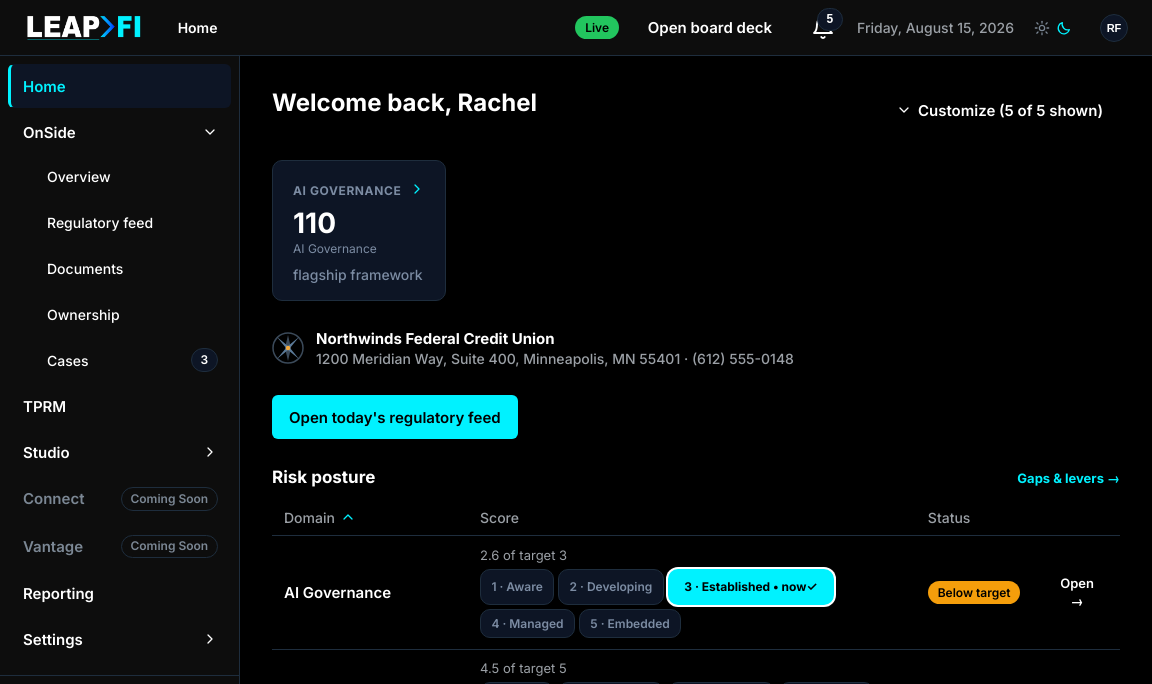
Test: ProfileMenu disclosure (C4 a11y baseline, design_system_spec.md §2.2; SH-7) › Tab out closes the menu instead of leaving a stale-open popover (WAI-ARIA menu pattern)
Click the button with aria-label "Rachel Fischer" at [1114, 28], box [1092,6,1136,50]
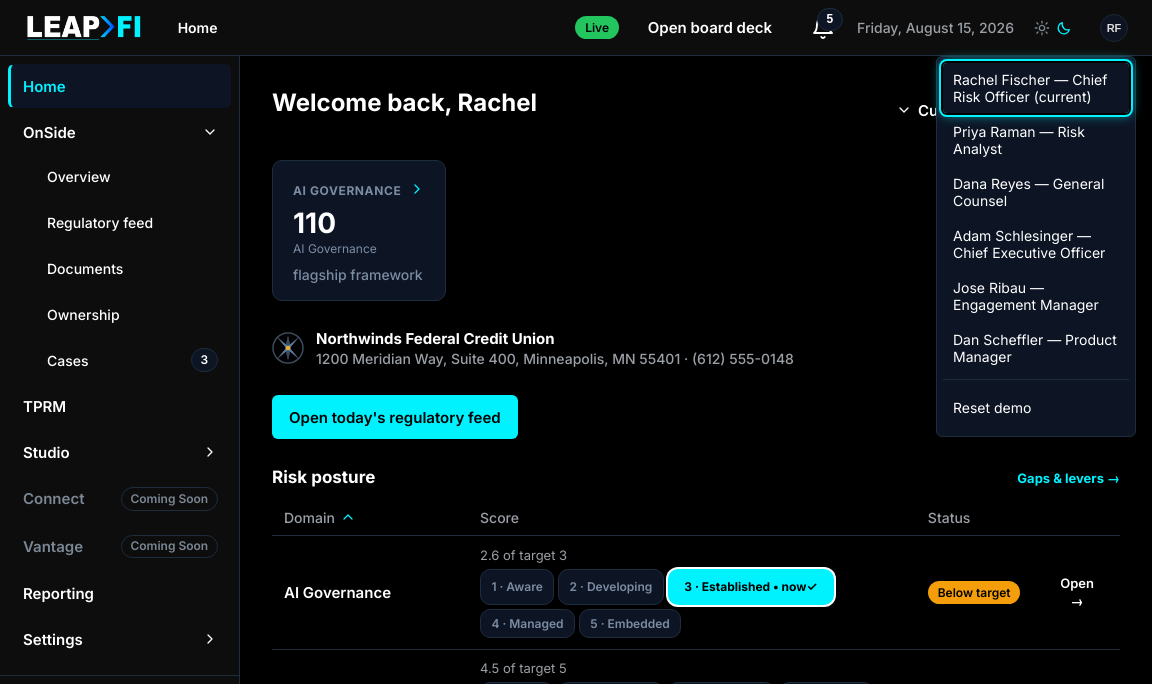
Expected: the menu named "Rachel Fischer account menu" is shown, [936,56,1136,436]
Press Tab
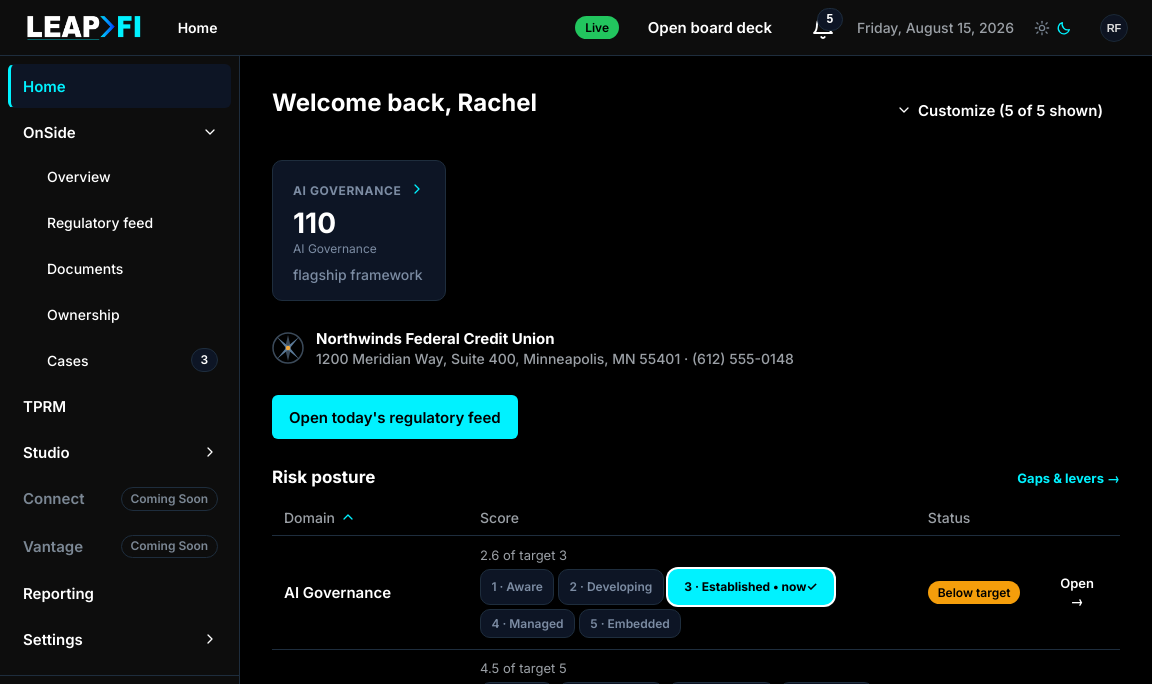
Expected: the menu "Rachel Fischer account menu" is gone
